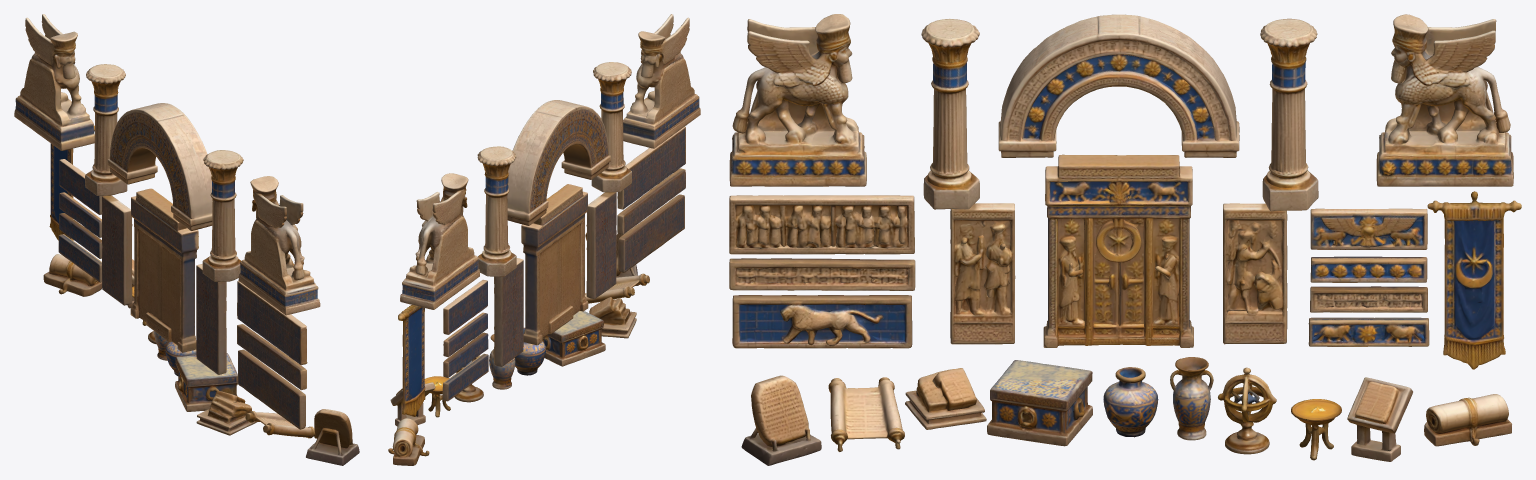
File: اثاث ونقوش.glb
The picture shows the model from 3 angles, left to right: view 1: azimuth 30°, elevation 25°; view 2: azimuth 150°, elevation 25°; view 3: azimuth 270°, elevation 25°; orthographic projection. The views are drawn at different scales.
Parts seen in each view (by area): view 1: world; view 2: world; view 3: world.
Boxes of the visible parts, bbox=[...] form: world: bbox=[14, 14, 359, 465]; world: bbox=[388, 14, 700, 465]; world: bbox=[729, 14, 1521, 465].
Bounding box in the file's own units: 0.1994 × 0.5547 × 1.
Materials: 1 (1 with a texture image).
